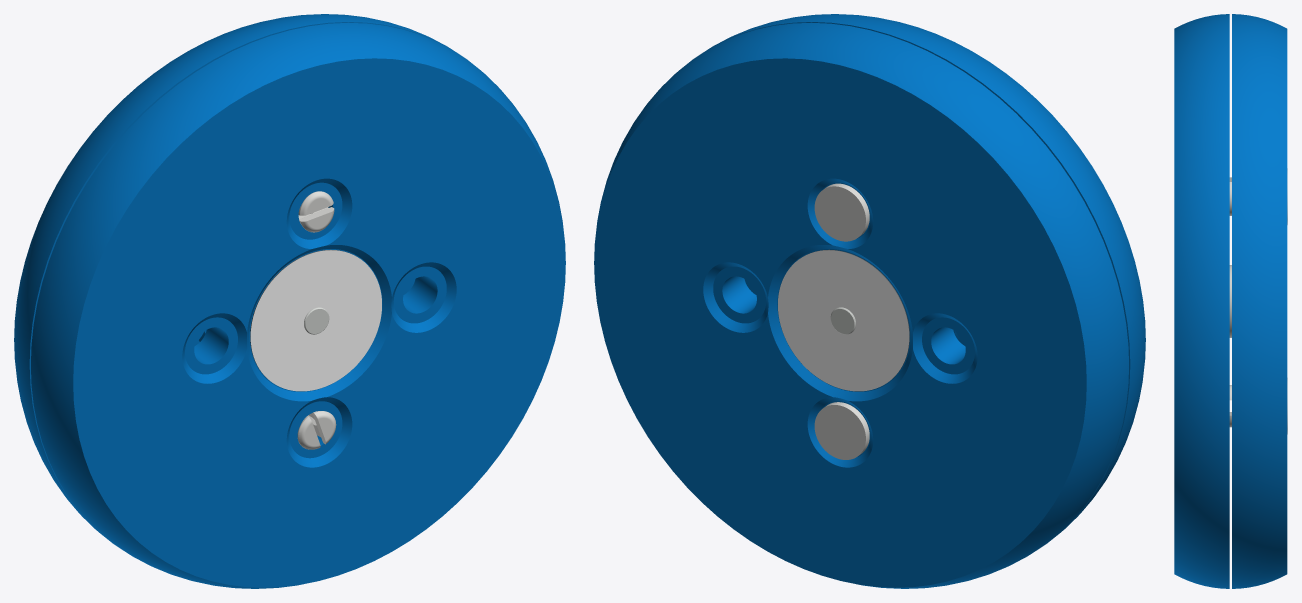
3 views of the same model, side by side, from view 1: azimuth 30°, elevation 25°; view 2: azimuth 150°, elevation 25°; view 3: azimuth 270°, elevation 25° (orthographic). The views are drawn at different scales.
Visible parts, largest first — view 1: NAUO3, NAUO7, NAUO1, NAUO5, NAUO4; view 2: NAUO1, NAUO6, NAUO3, NAUO5, NAUO4; view 3: NAUO3, NAUO1, NAUO2, NAUO5.
Part boxes in pixels (left/top/right/bottom): NAUO3: left=31, top=22, right=565, bottom=588; NAUO7: left=250, top=249, right=381, bottom=391; NAUO1: left=14, top=14, right=451, bottom=535; NAUO5: left=298, top=191, right=334, bottom=232; NAUO4: left=297, top=411, right=336, bottom=449; NAUO1: left=594, top=22, right=1128, bottom=588; NAUO6: left=778, top=249, right=909, bottom=391; NAUO3: left=708, top=14, right=1145, bottom=535; NAUO5: left=814, top=183, right=869, bottom=241; NAUO4: left=814, top=402, right=869, bottom=459; NAUO3: left=1174, top=14, right=1229, bottom=588; NAUO1: left=1232, top=14, right=1287, bottom=588; NAUO2: left=1229, top=265, right=1231, bottom=337; NAUO5: left=1229, top=168, right=1287, bottom=224.
Size of the model in its own units: 0.0632 by 0.0632 by 0.0125.
